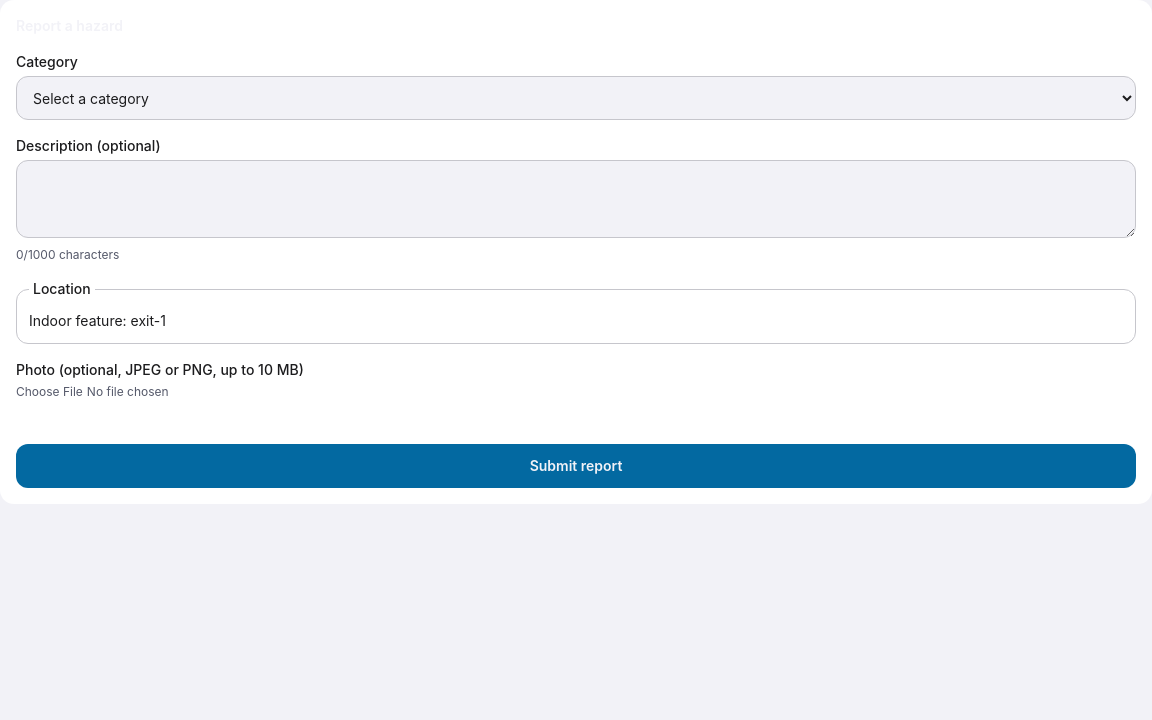
Test: forms queue instead of sending while offline › ReportForm shows the queue-full message at 50 items
Select "flooding" in the dropdown labelled "Category" at (576, 98), box [16,76,1136,120]
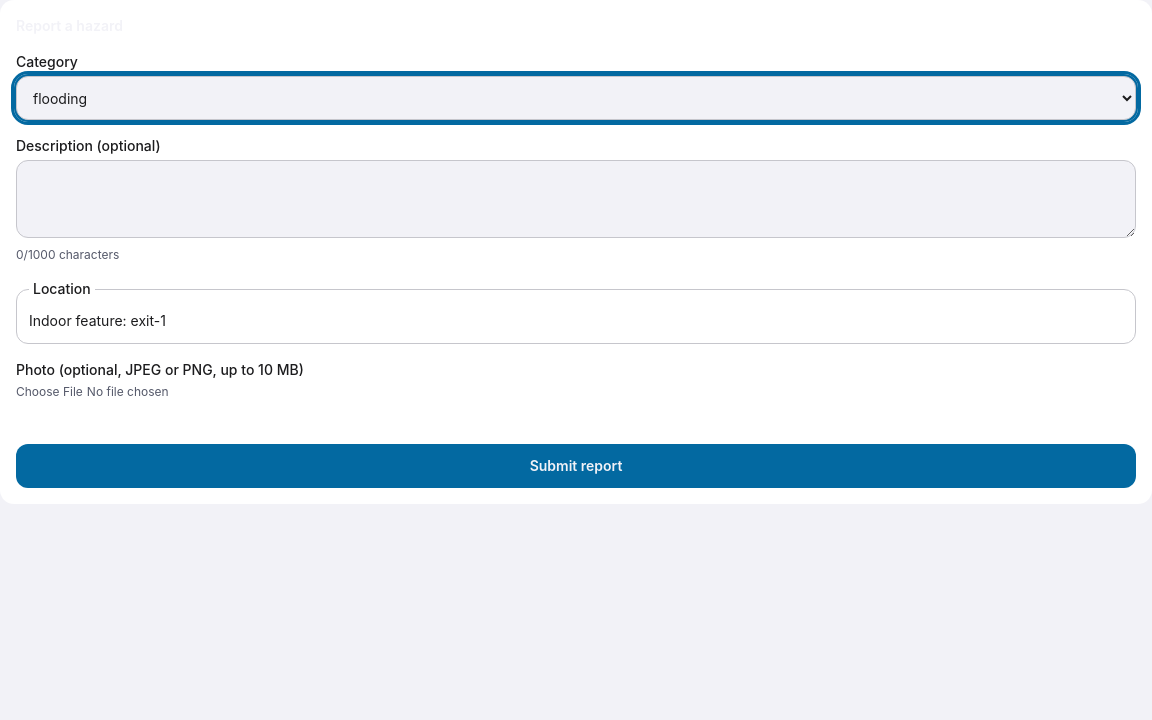
Click the button "Submit report" at (576, 466), box [16,444,1136,488]
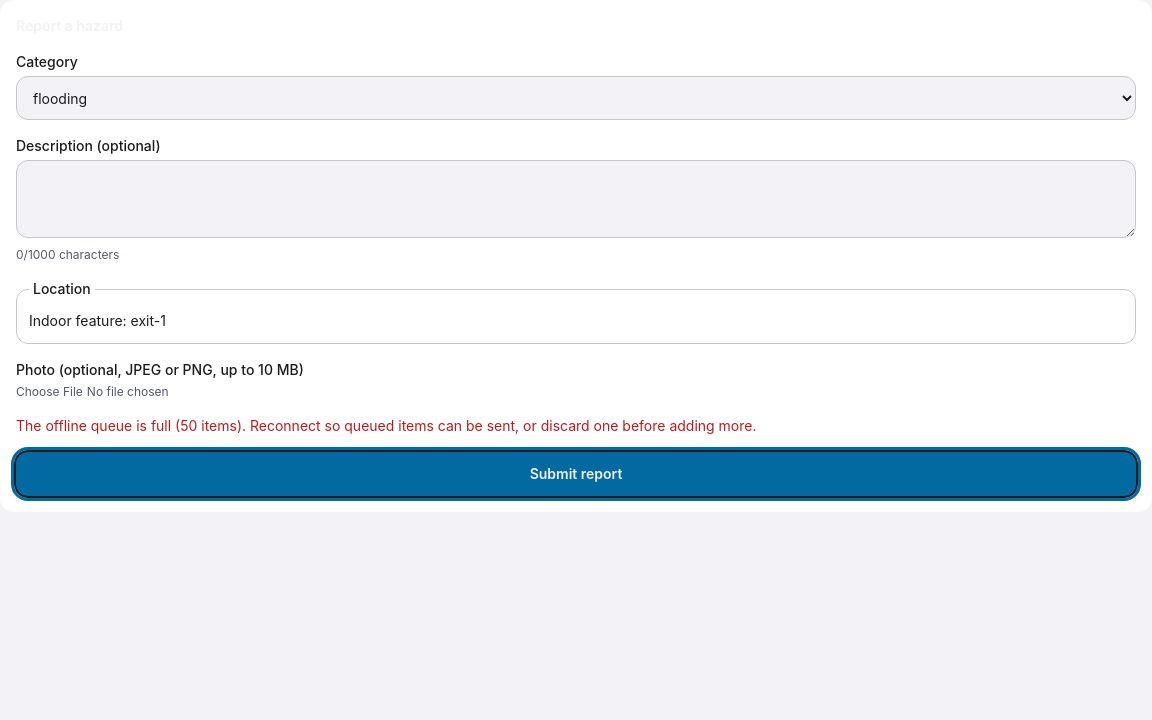
Expected: the message shows "offline queue is full", [16,417,756,434]
